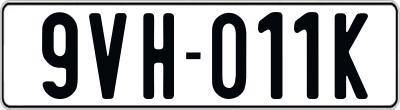0: (212, 12, 246, 103)
1: (291, 9, 320, 99), (256, 9, 283, 97)
9: (40, 11, 80, 99)
H: (140, 13, 177, 103)
K: (334, 11, 371, 99)
V: (88, 11, 129, 102)
